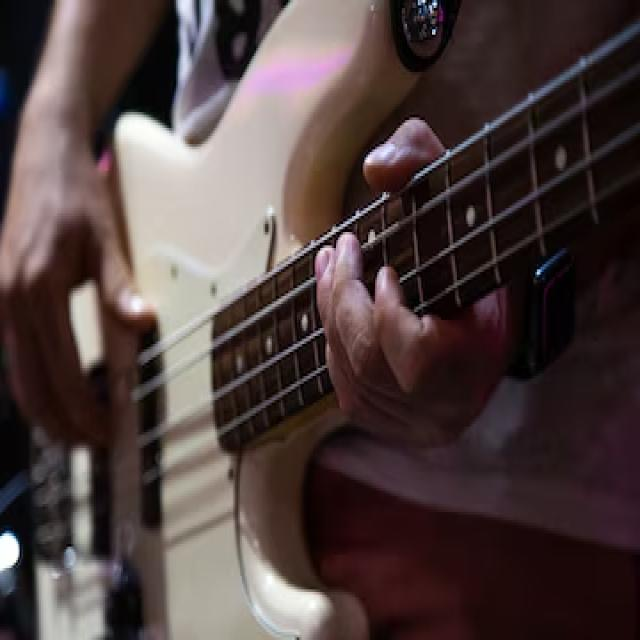bass: (2, 13, 622, 627)
